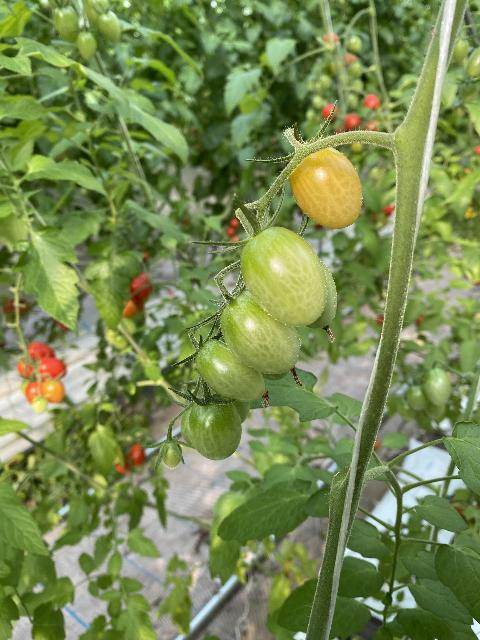l_green: (241, 227, 327, 327), (220, 290, 302, 375), (195, 339, 265, 402), (187, 395, 241, 461), (304, 257, 337, 330), (160, 439, 182, 468)
l_half_ripened: (288, 147, 363, 230)
